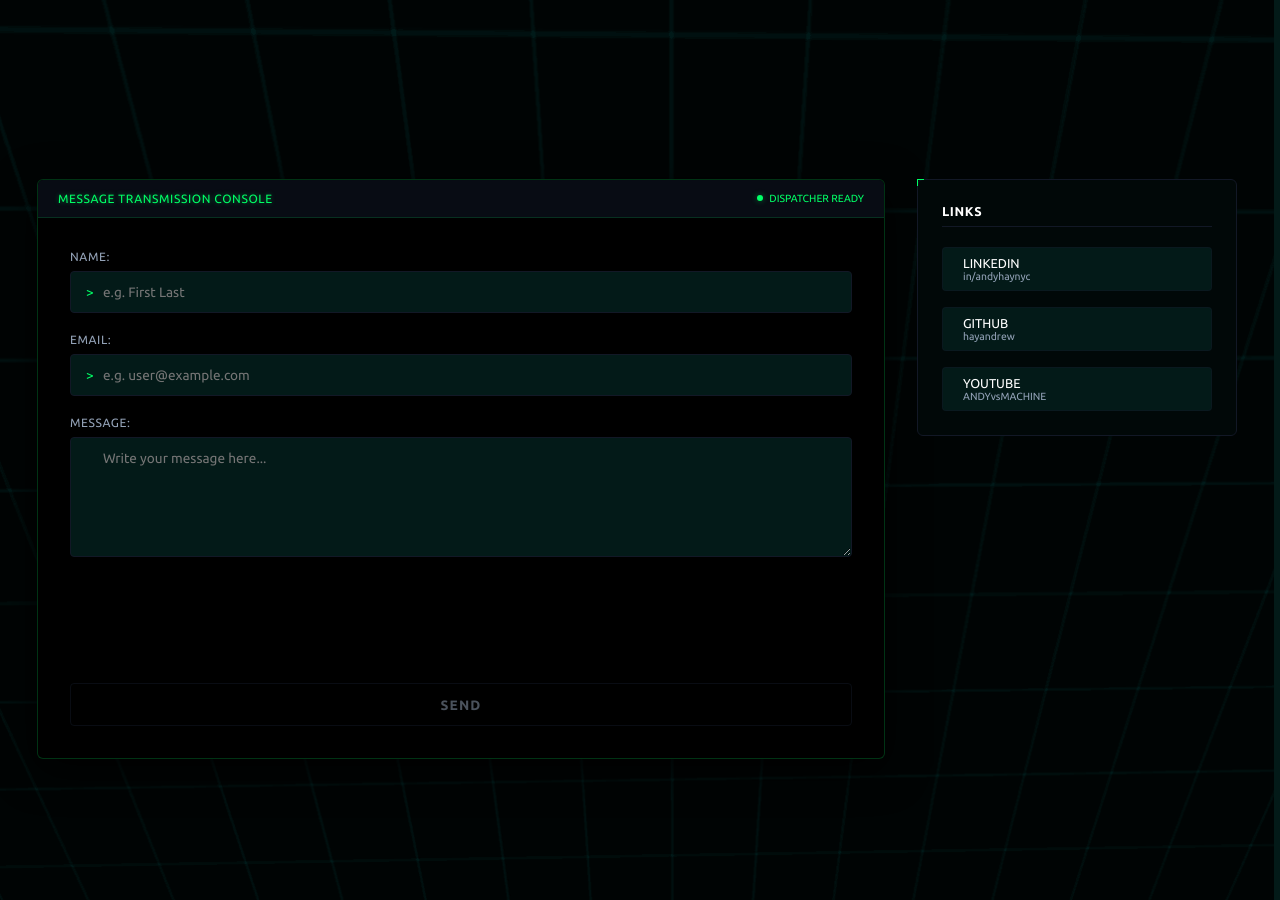
Scenario: ContactPage Component › should render server validation errors if contact submission fails
Type "Andy" into the field labelled "NAME:". click: (461, 292)
box: [70,271,852,313]
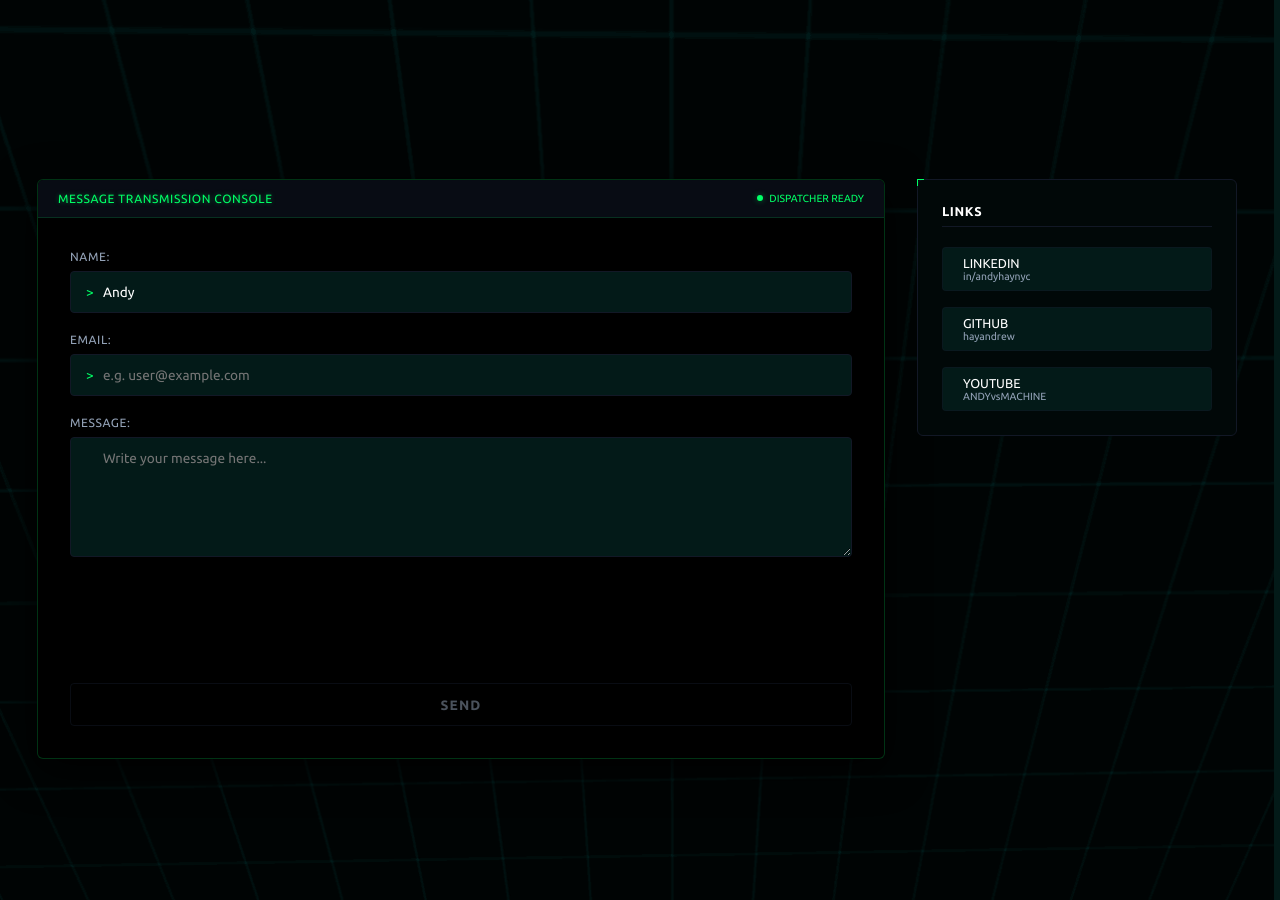
Type "invalid@example.com" into the field labelled "EMAIL:". click: (461, 375)
box: [70,354,852,396]
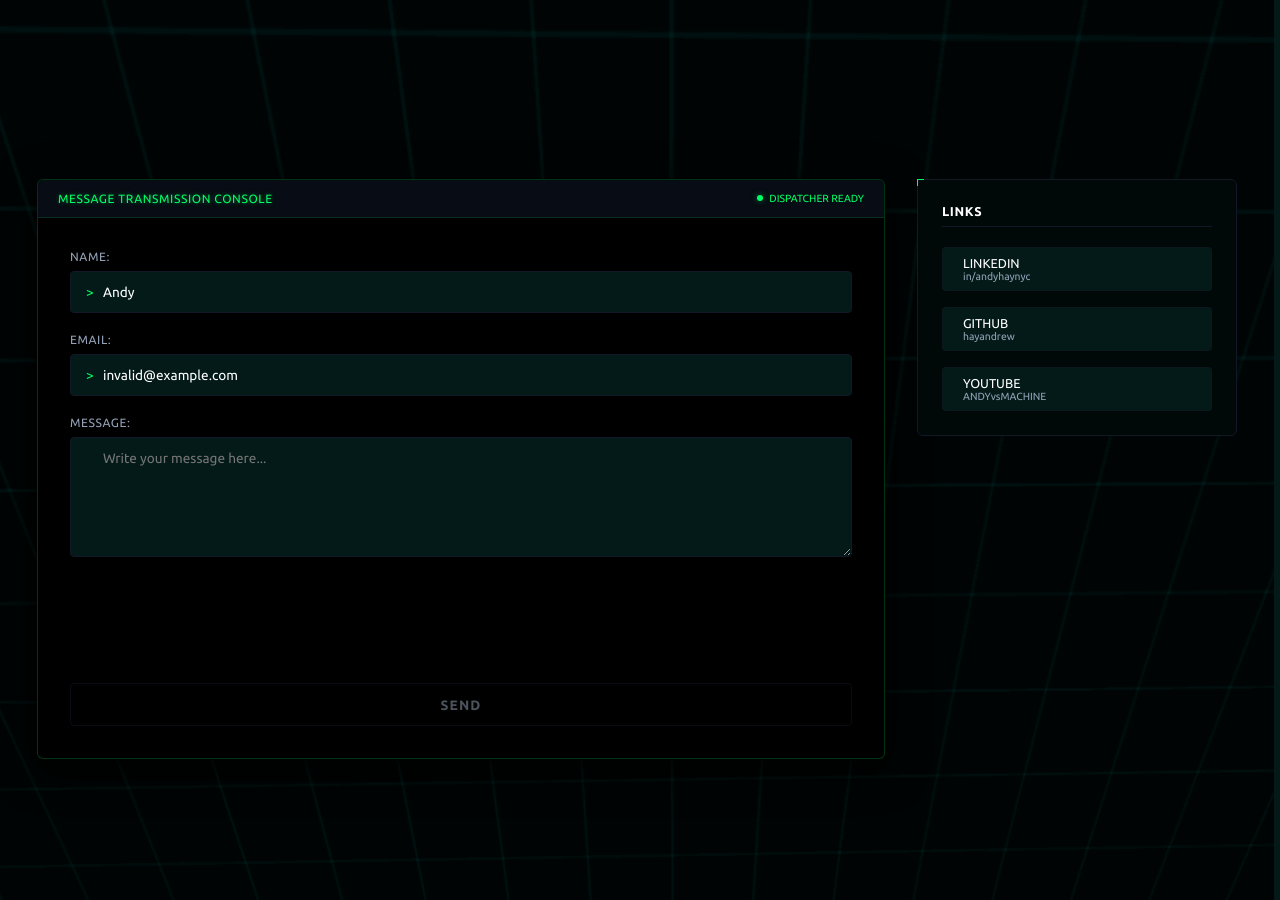
Type "Test" into the text box labelled "MESSAGE:". click: (461, 497)
box: [70,437,852,557]
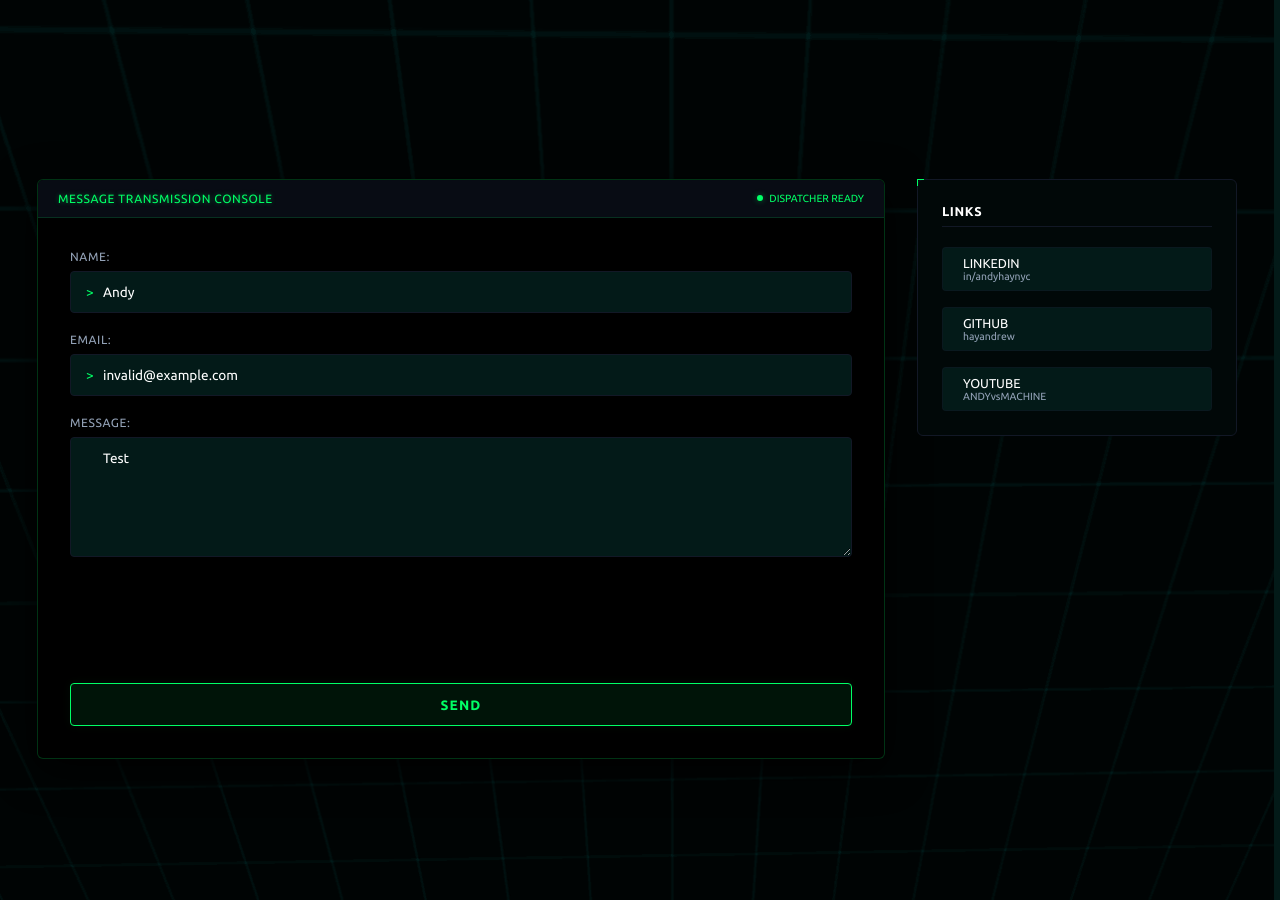
Click the button "SEND". click: (461, 704)
box: [70,683,852,726]
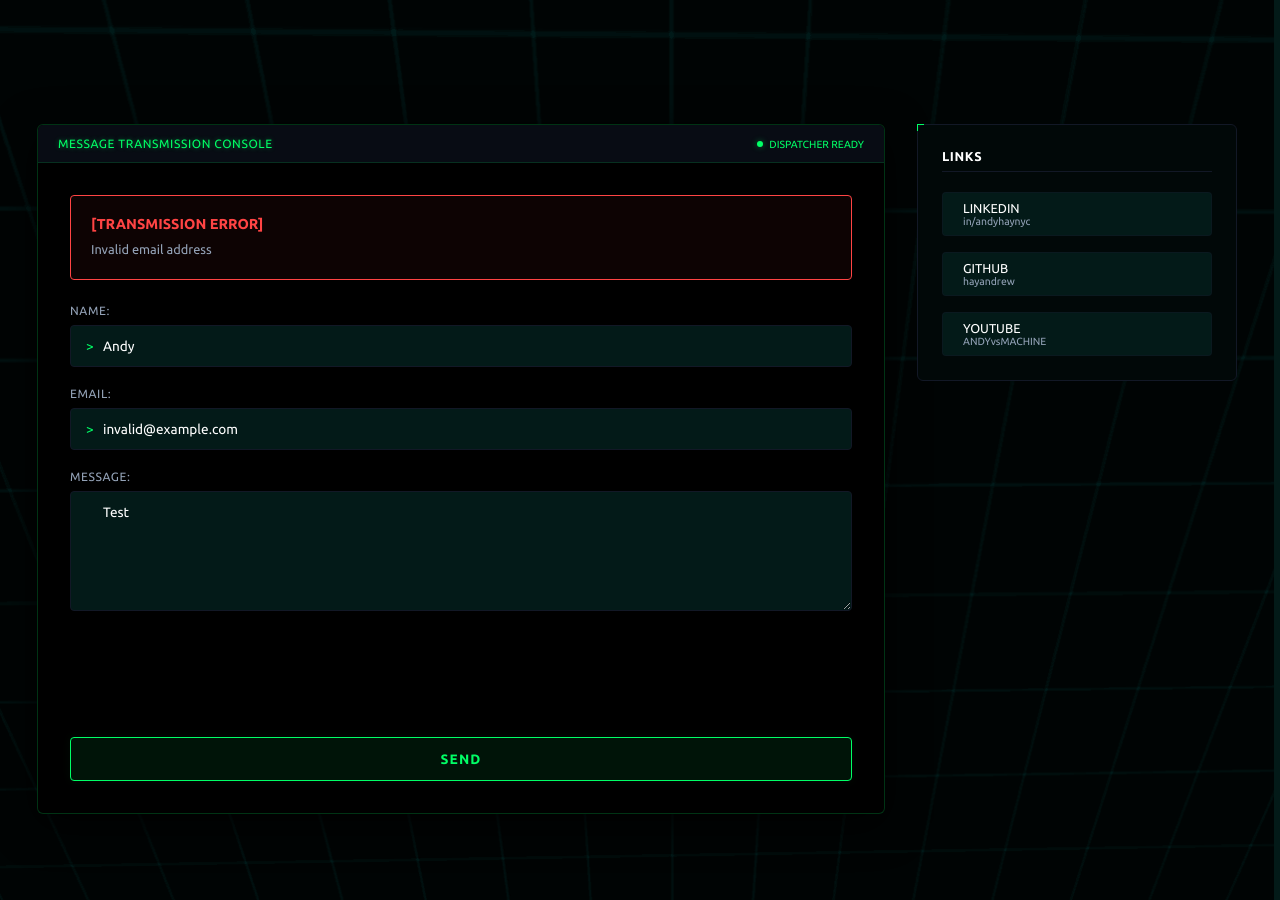
Check: the text "Invalid email address" is shown, box [91,242,212,256]
